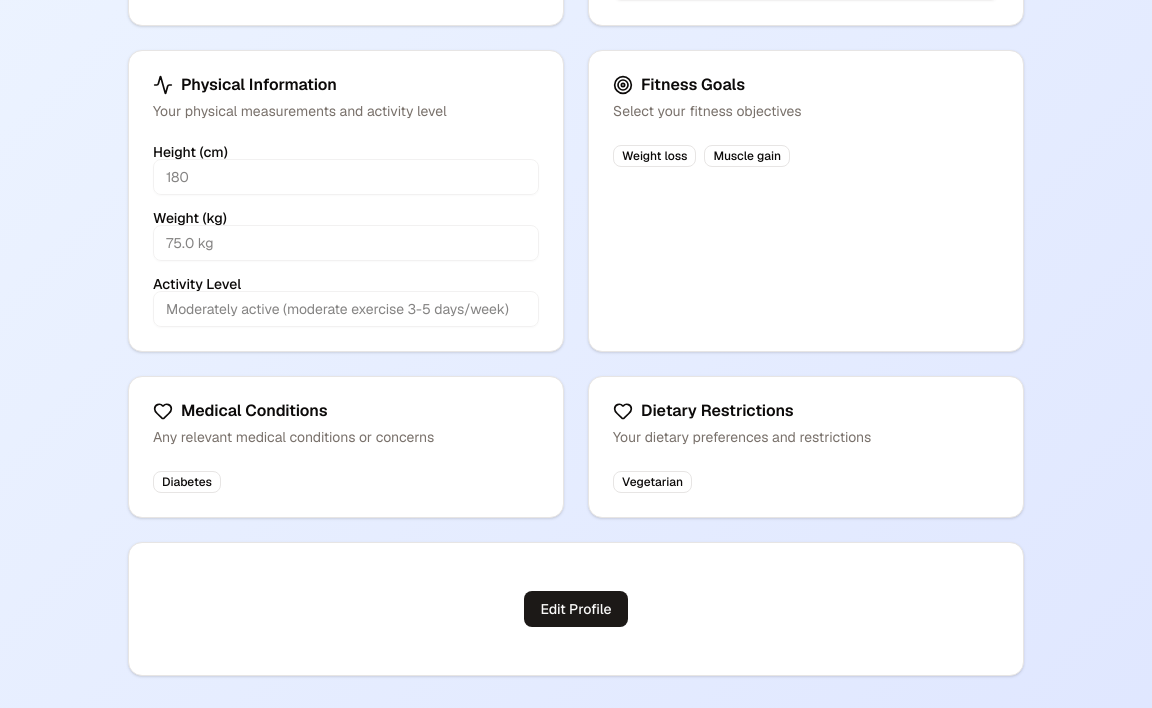
Test: ProfilePage › Edit Mode › should exit edit mode when Cancel button is clicked
(page scrolled)
Click the button "Edit Profile".
click(576, 609)  # box x1=524 y1=591 x2=628 y2=627
(page scrolled)
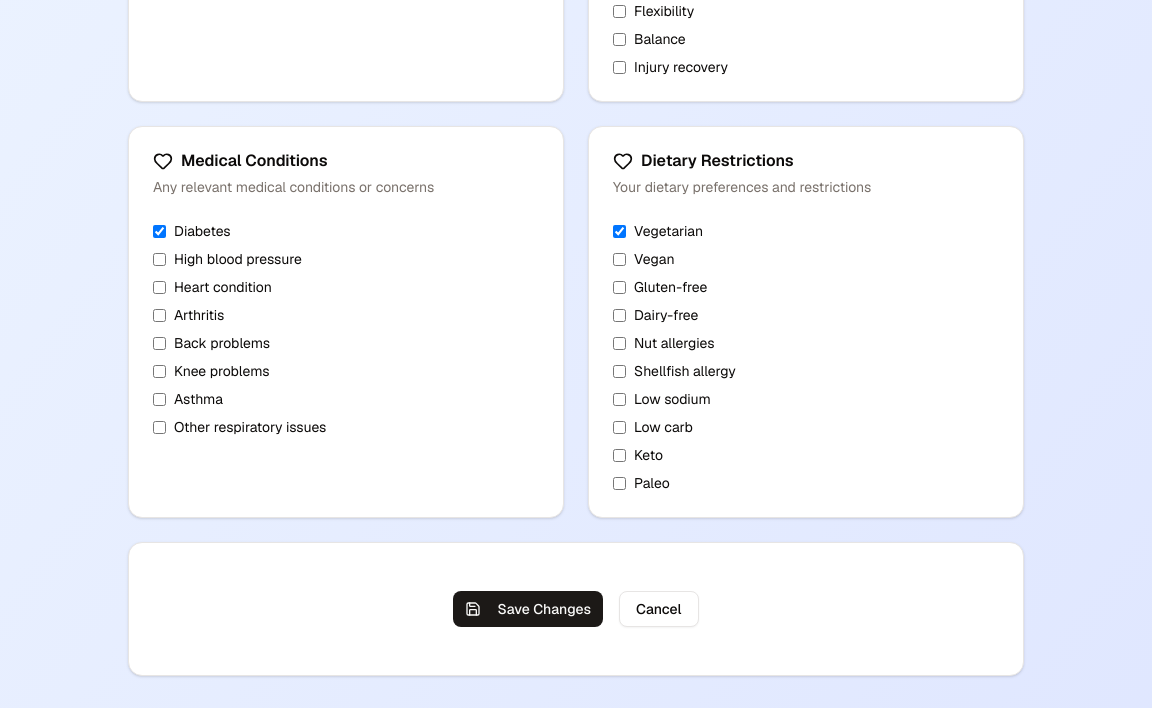
Click the button "Cancel".
click(659, 609)  # box x1=619 y1=591 x2=699 y2=627
(page scrolled)
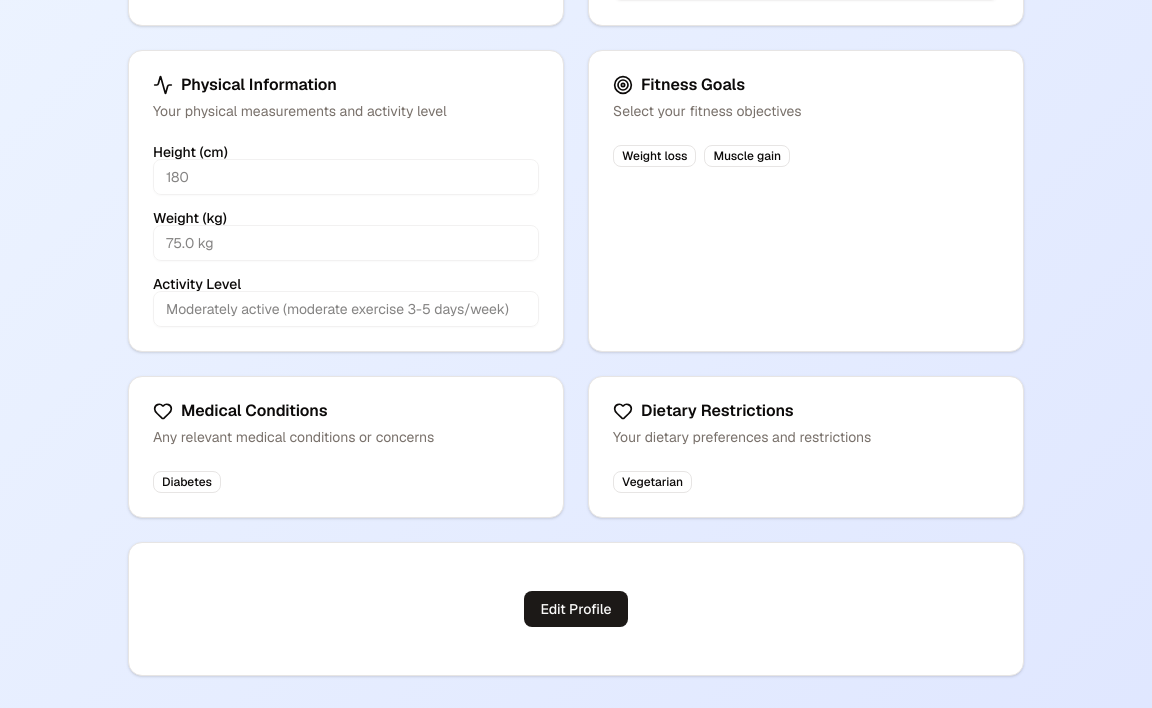
Expected: the button "Edit Profile" is shown, x1=524 y1=591 x2=628 y2=627
Expected: the button "Save Changes" is gone
